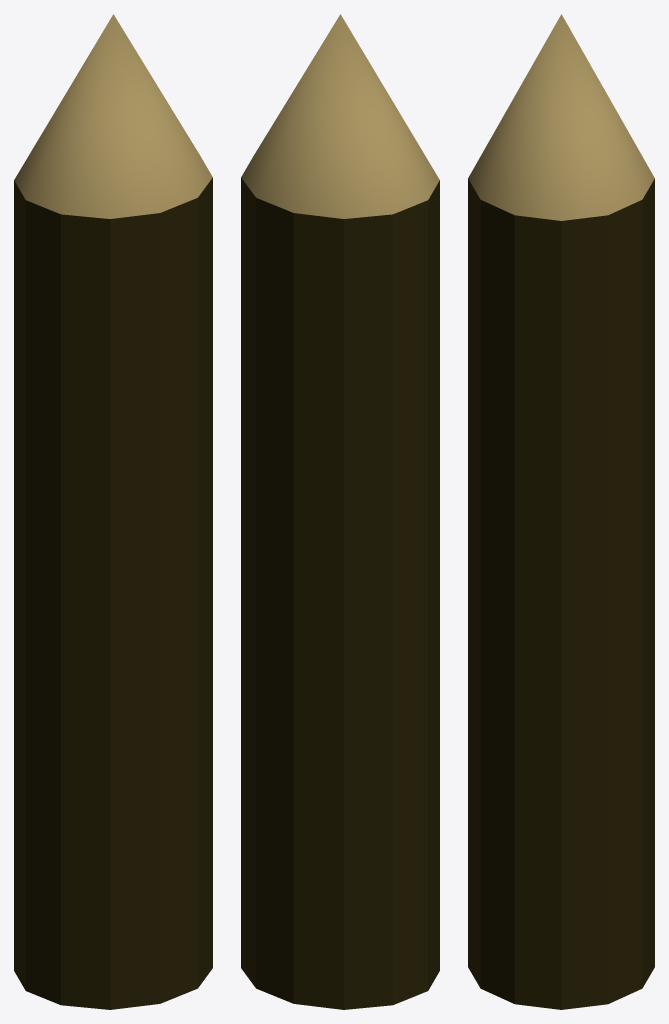
The model's file is prop_log_post_2.glb.
The picture shows the model from 3 angles, left to right: view 1: azimuth 30°, elevation 25°; view 2: azimuth 150°, elevation 25°; view 3: azimuth 270°, elevation 25°; orthographic projection.
Parts seen in each view (by area): view 1: prop_log_post_2; view 2: prop_log_post_2; view 3: prop_log_post_2.
Boxes of the visible parts, x1=… form: prop_log_post_2: x1=14, y1=14, x2=212, y2=1009; prop_log_post_2: x1=241, y1=14, x2=439, y2=1009; prop_log_post_2: x1=468, y1=14, x2=654, y2=1009.
Bounding box in the file's own units: 0.3949 × 2.06 × 0.3651.
